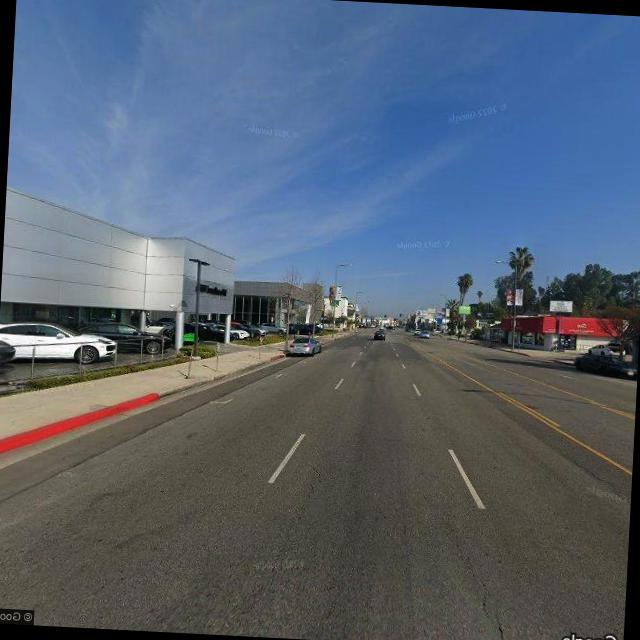crack: (452, 540, 521, 640)
